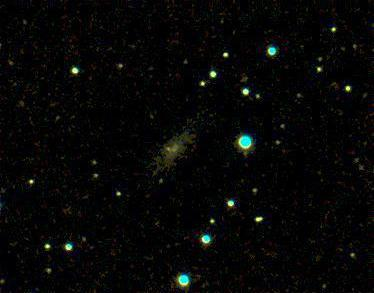star: (310, 275, 340, 293)
